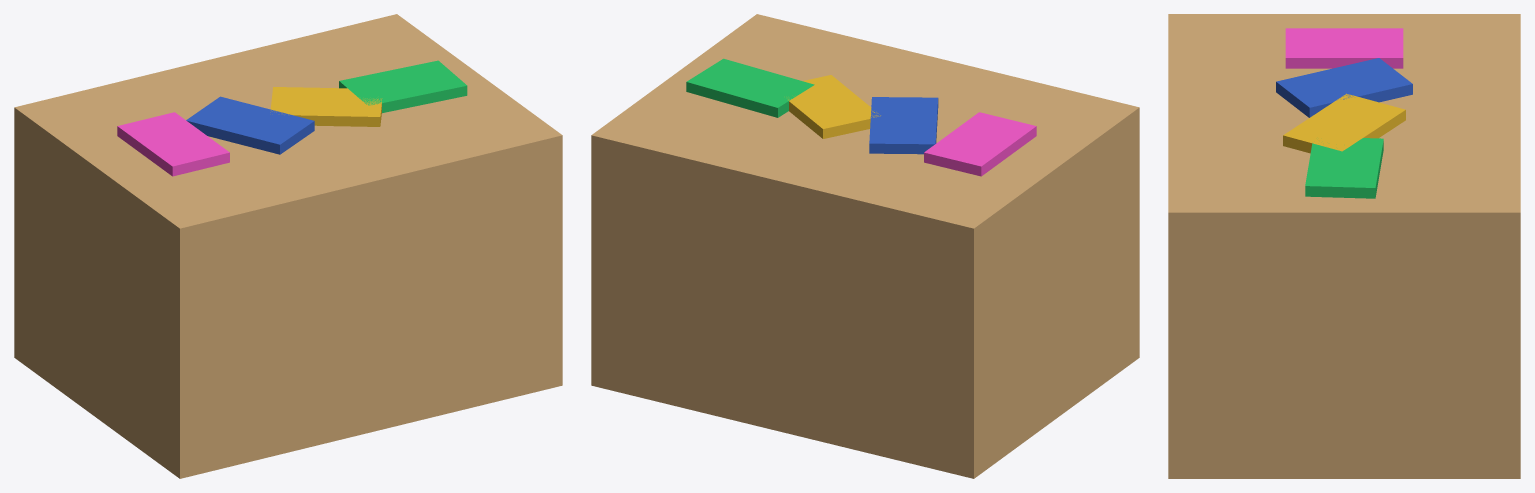
The model's file is karaoke_balloon_box.glb.
3 views of the same model, side by side, from view 1: azimuth 30°, elevation 25°; view 2: azimuth 150°, elevation 25°; view 3: azimuth 270°, elevation 25° (orthographic). The views are drawn at different scales.
Parts seen in each view (by area): view 1: box_balloon_box, balloon; view 2: box_balloon_box, balloon; view 3: box_balloon_box, balloon.
Boxes of the visible parts, box(x1,y1,x2,y2) form: box_balloon_box: box(14, 14, 562, 478); balloon: box(117, 60, 467, 176); box_balloon_box: box(591, 14, 1139, 478); balloon: box(686, 58, 1036, 176); box_balloon_box: box(1168, 14, 1520, 478); balloon: box(1276, 28, 1412, 198).
Size of the model in its own units: 0.4 by 0.26 by 0.3.
